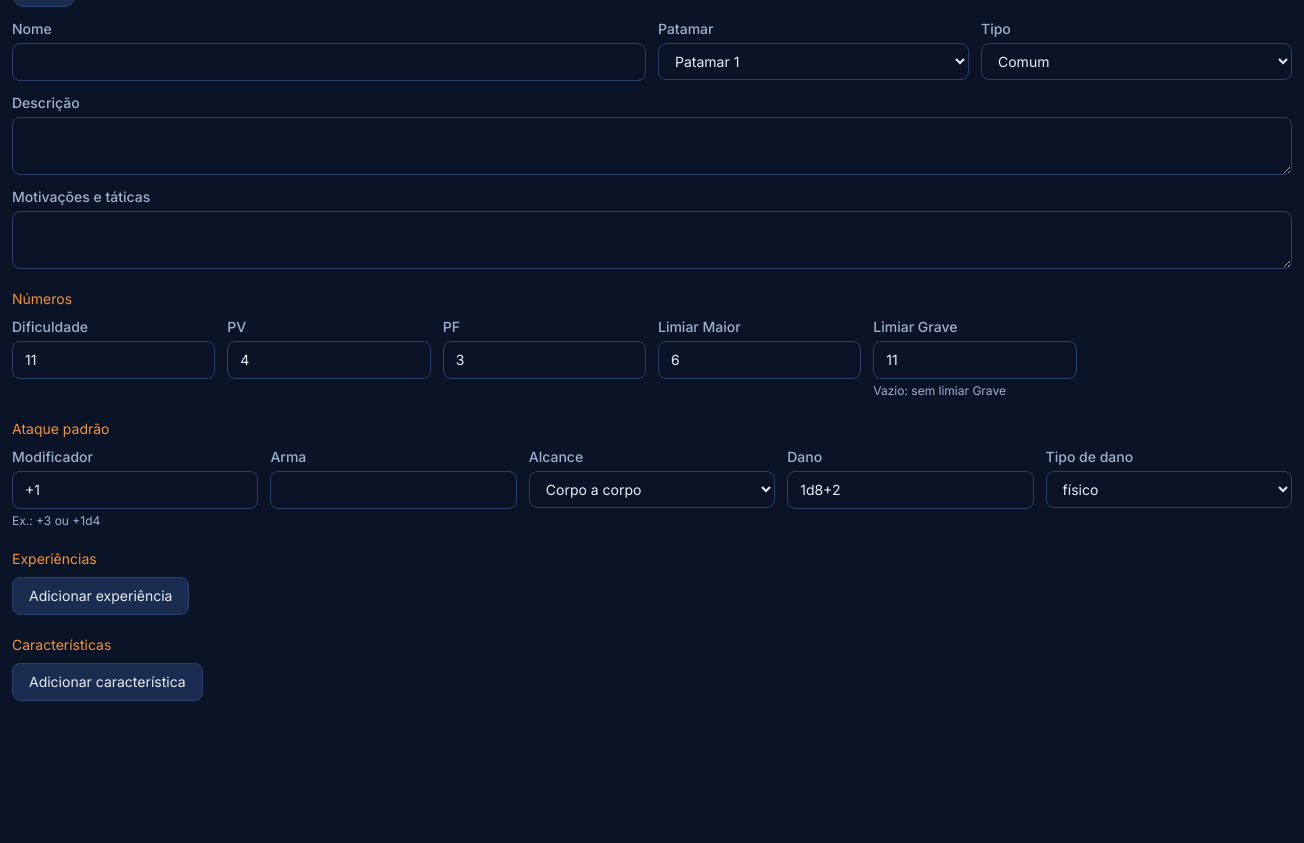
Test: Editor de inimigo › adiciona experiências e características
The width and height of the screenshot is (1304, 843).
Click the button "Adicionar experiência".
click(101, 596)  # box [12, 577, 190, 615]
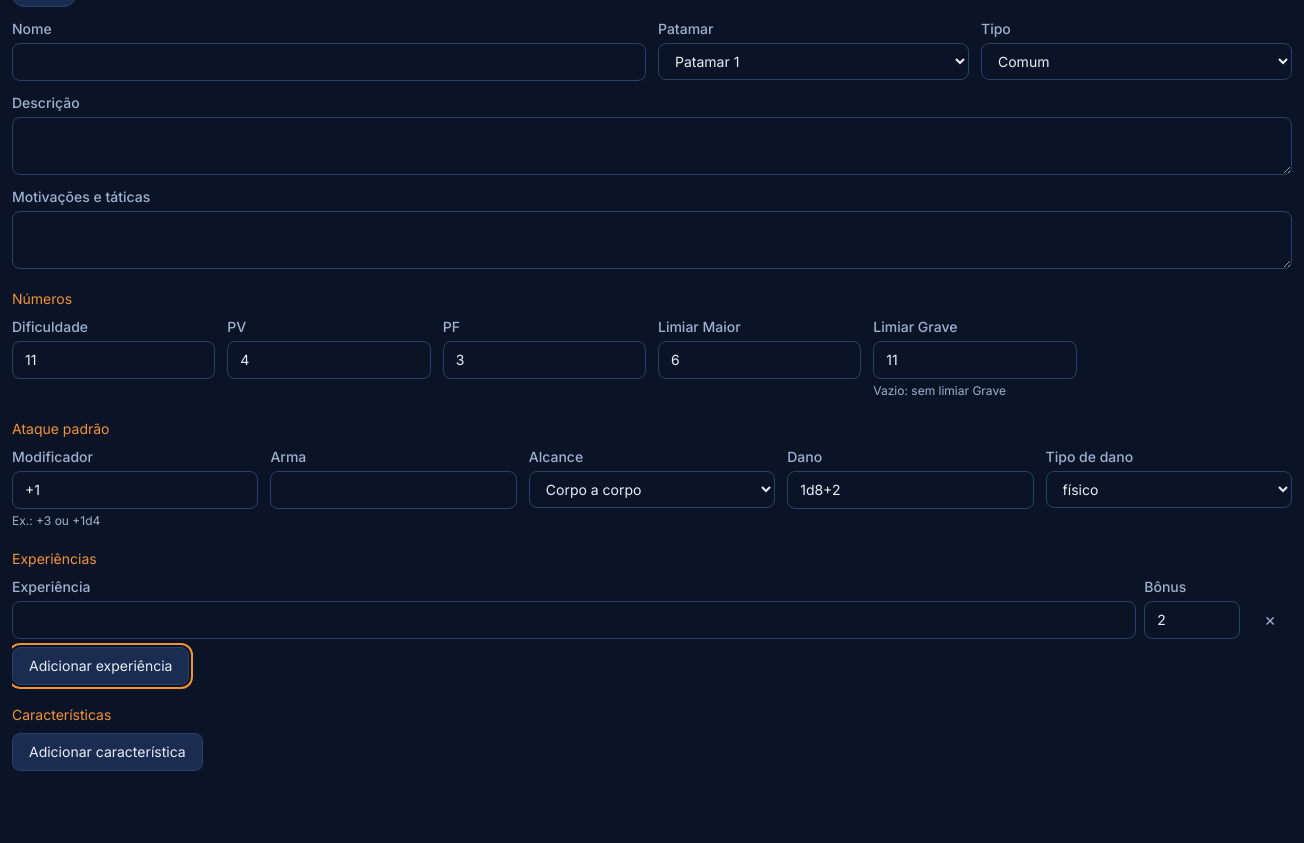
Type "Emboscada" into the field labelled "Experiência".
click(574, 620); type("Emboscada")  # box [12, 601, 1136, 639]
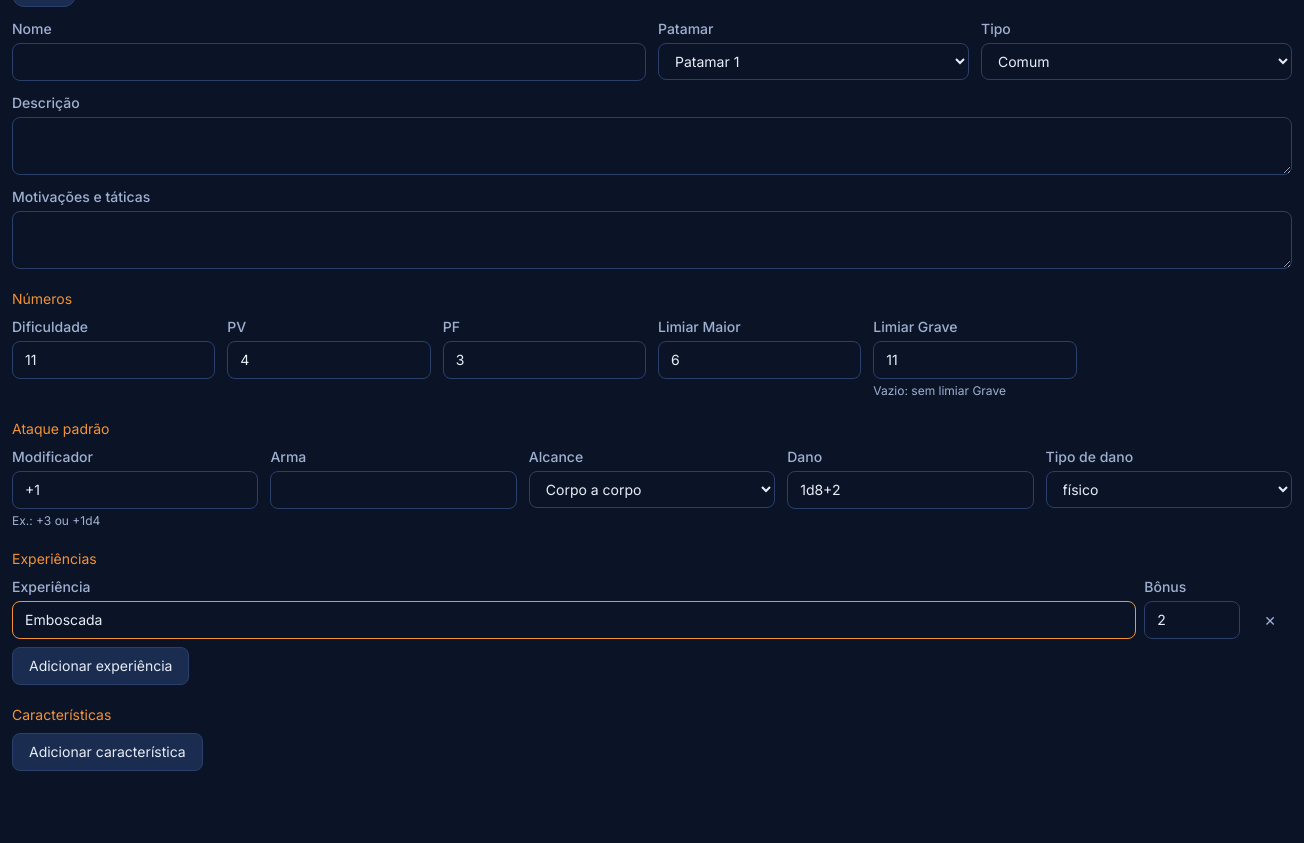
Check: the number field labelled "Bônus" holds "2", box [1144, 601, 1240, 639]
Click the button "Adicionar característica".
click(107, 752)  # box [12, 733, 203, 771]
(page scrolled)
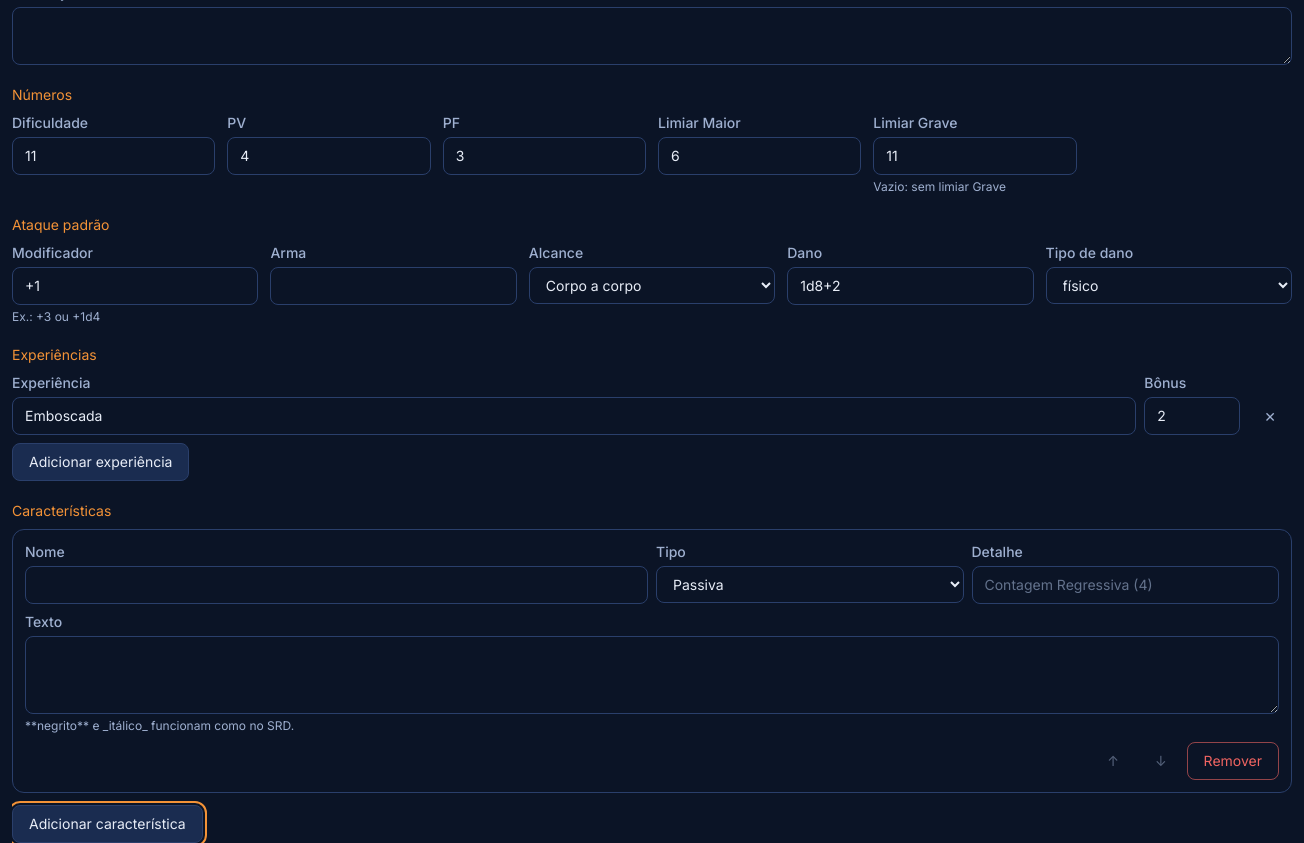
Check: the text box labelled "Texto" is shown, box [25, 636, 1279, 714]
